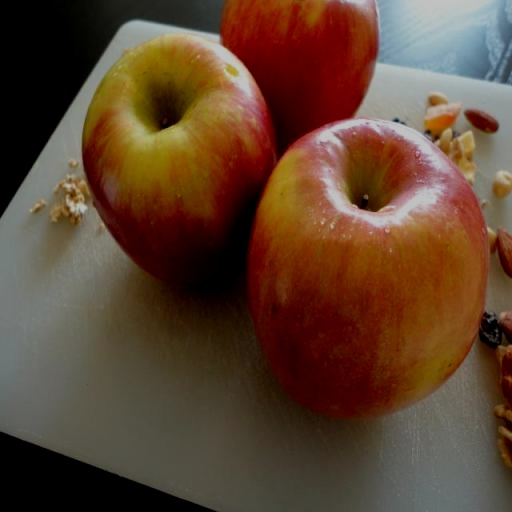fruit: (248, 120, 488, 417), (83, 35, 275, 283)
